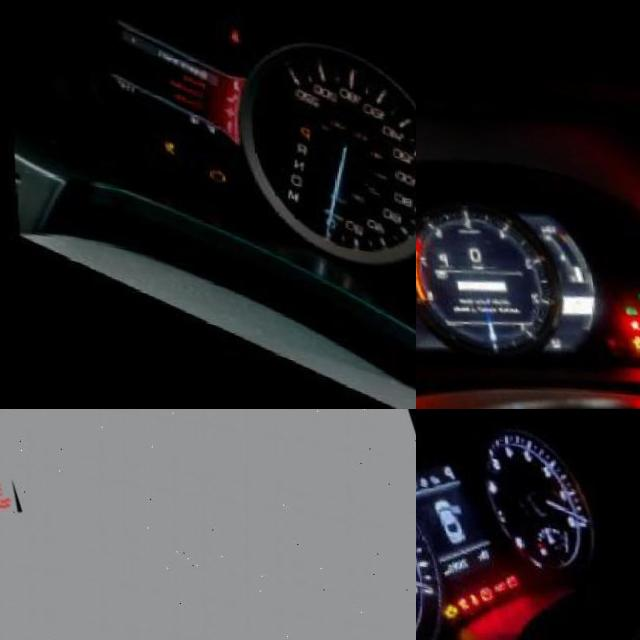Seat Belt: (474, 582, 488, 600)
